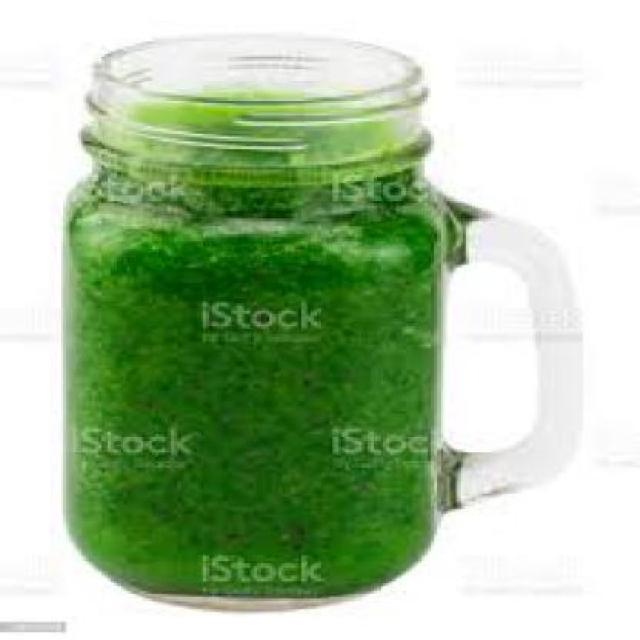kaca: (66, 34, 577, 609)
